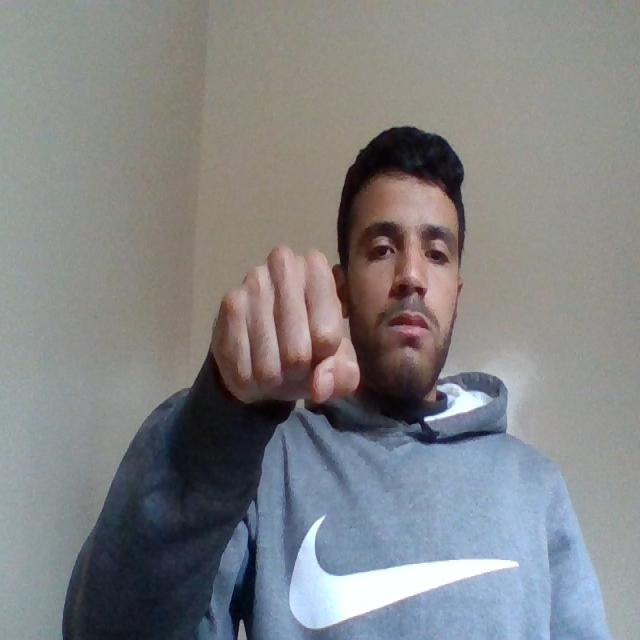No: (209, 240, 363, 413)
